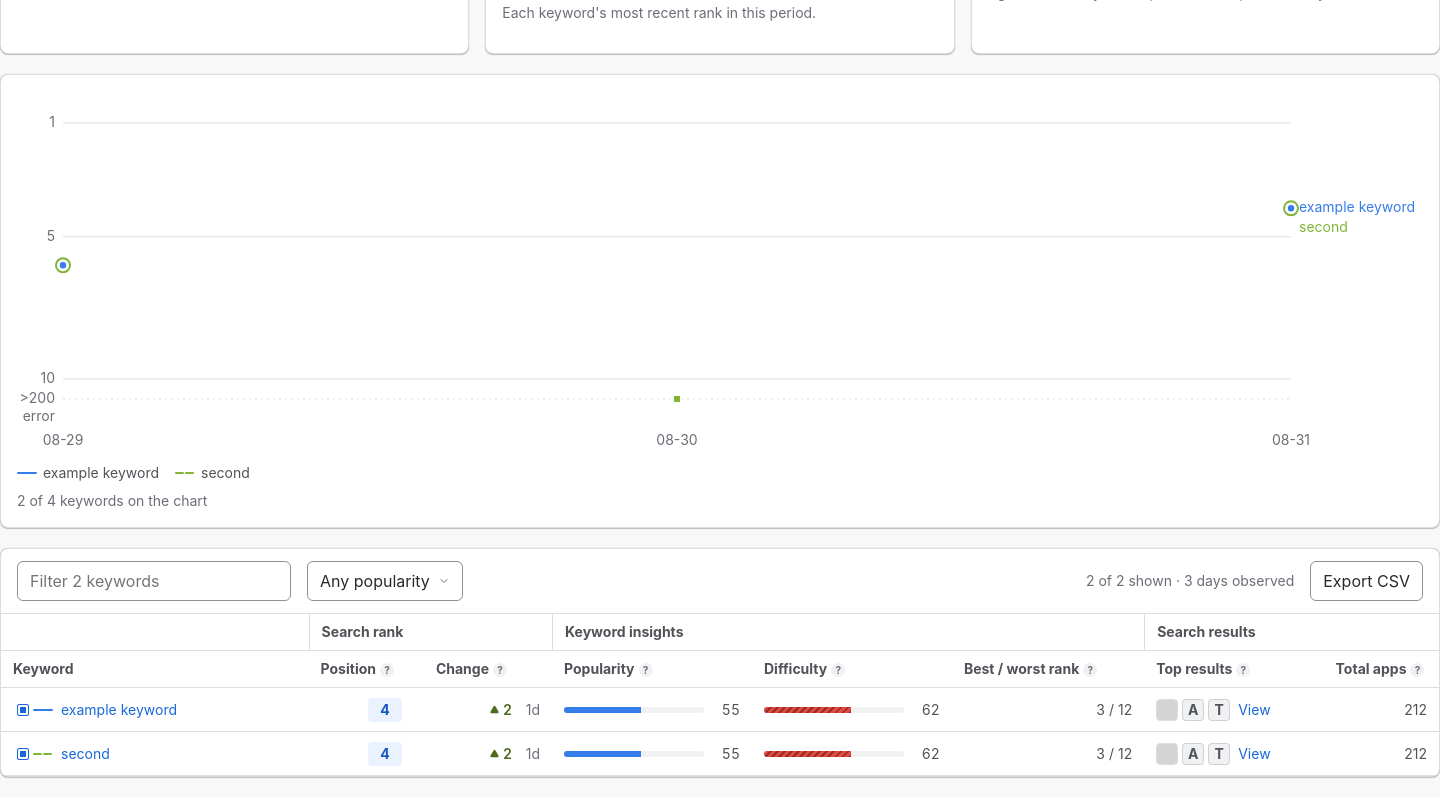
Test: Chart series selection › adds and removes a keyword from the chart
(page scrolled)
Click the button named "Remove example keyword from the chart" at (35, 710), box [13,694,57,726]
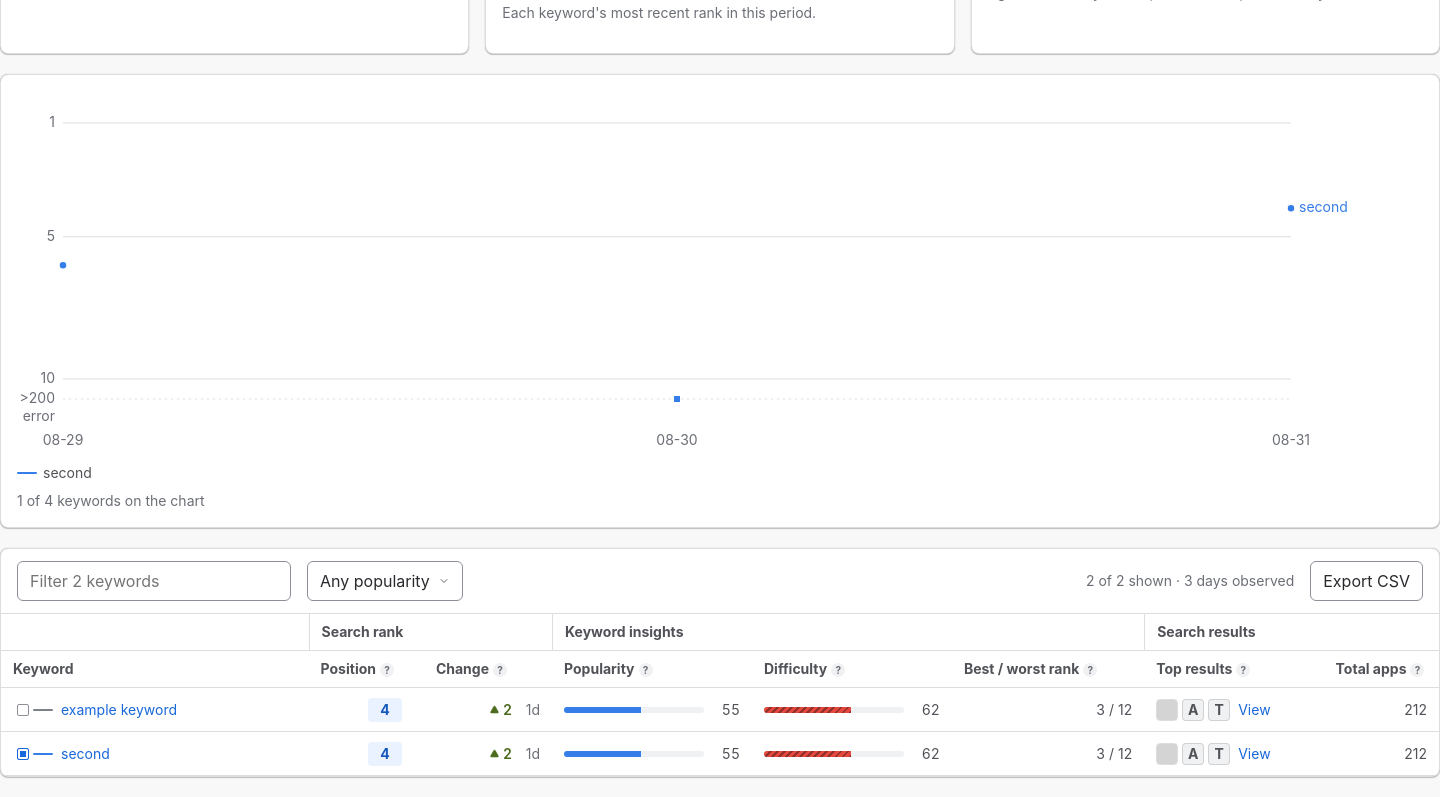
Now the button named "Add example keyword to the chart" is shown, box [13,694,57,726]
